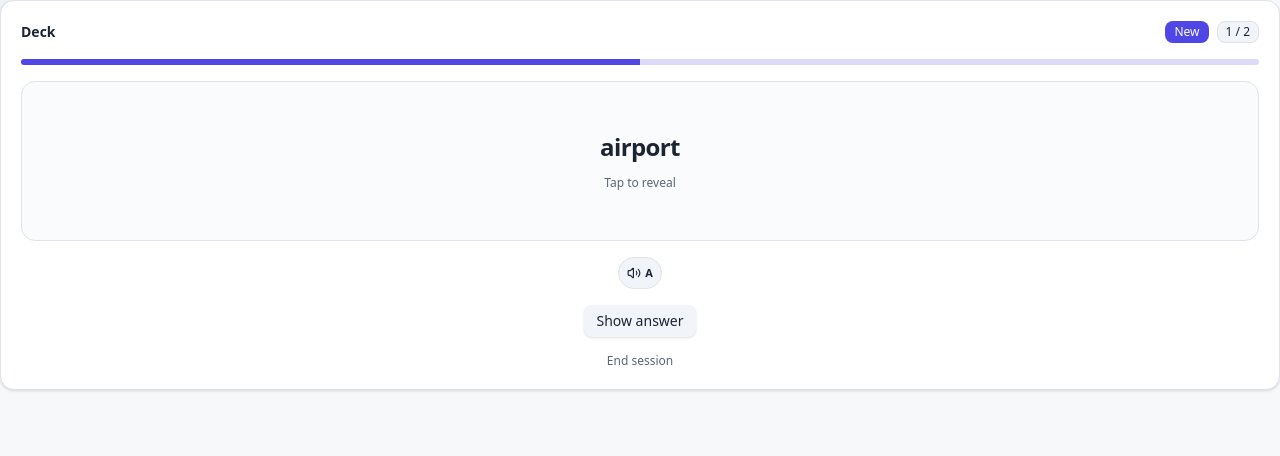
Test: StudySession › al gradear la última tarjeta se ve el resumen, no una recarga silenciosa
Expected: the text "airport" is shown, [600,131,680,163]
Click the button with aria-label "Flip card": coordinates (640, 161) [21,81,1259,241]
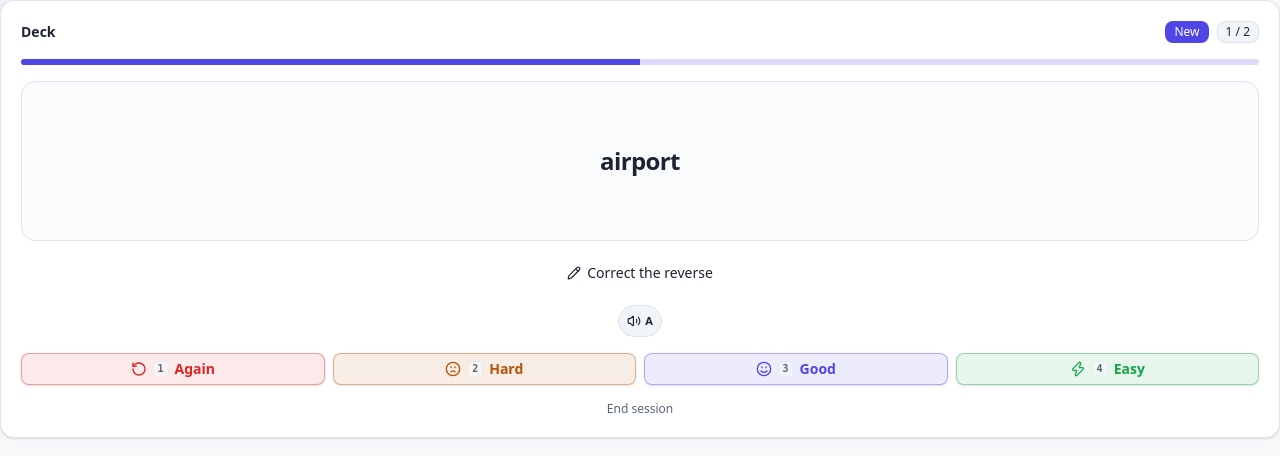
Click the text "Good": coordinates (818, 369) [800,359,836,379]
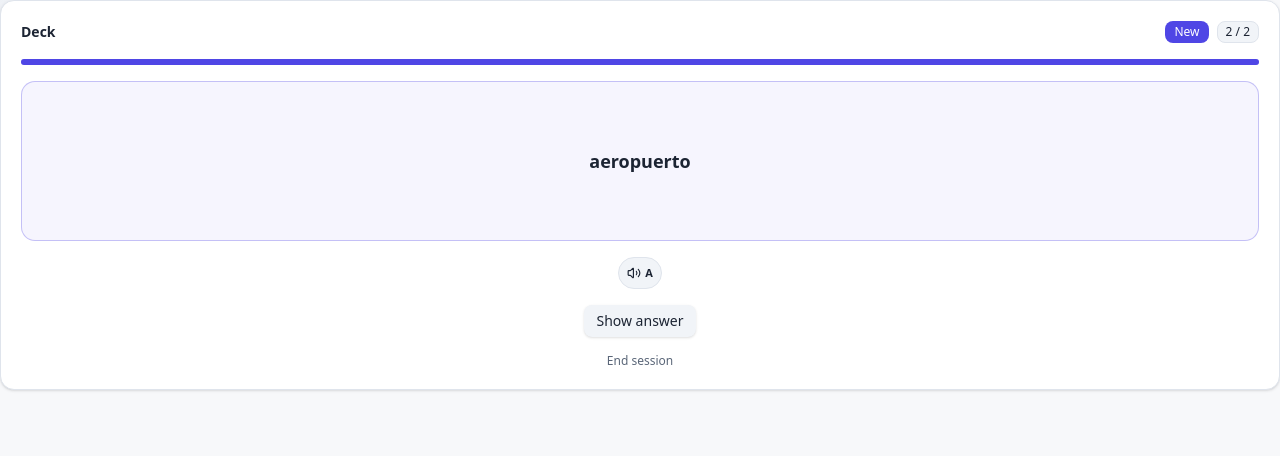
Now the text "ticket" is shown, box [607,131,673,163]
Click the button with aria-label "Flip card": coordinates (640, 161) [21,81,1259,241]
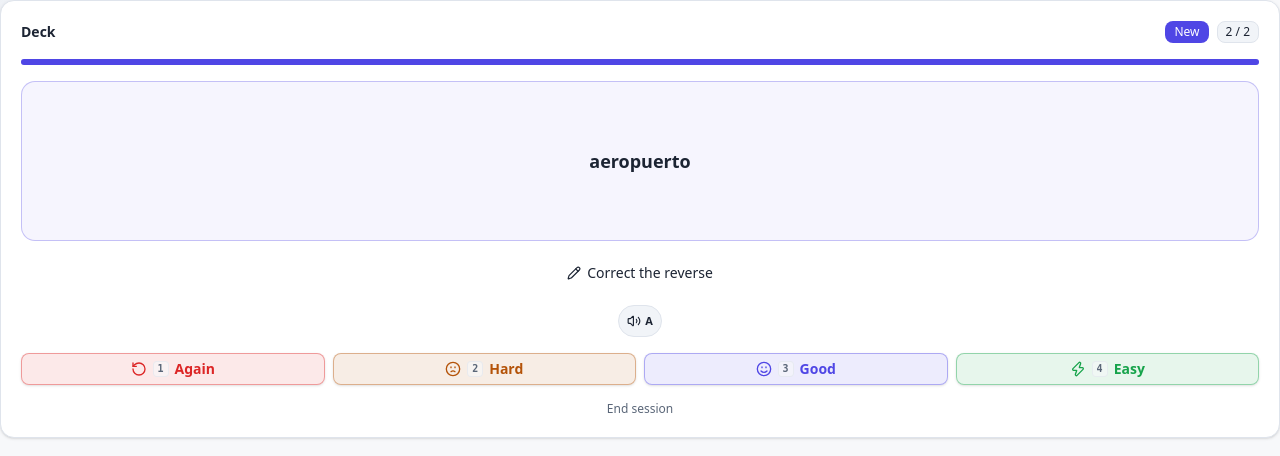
Click the text "Good": coordinates (818, 369) [800,359,836,379]
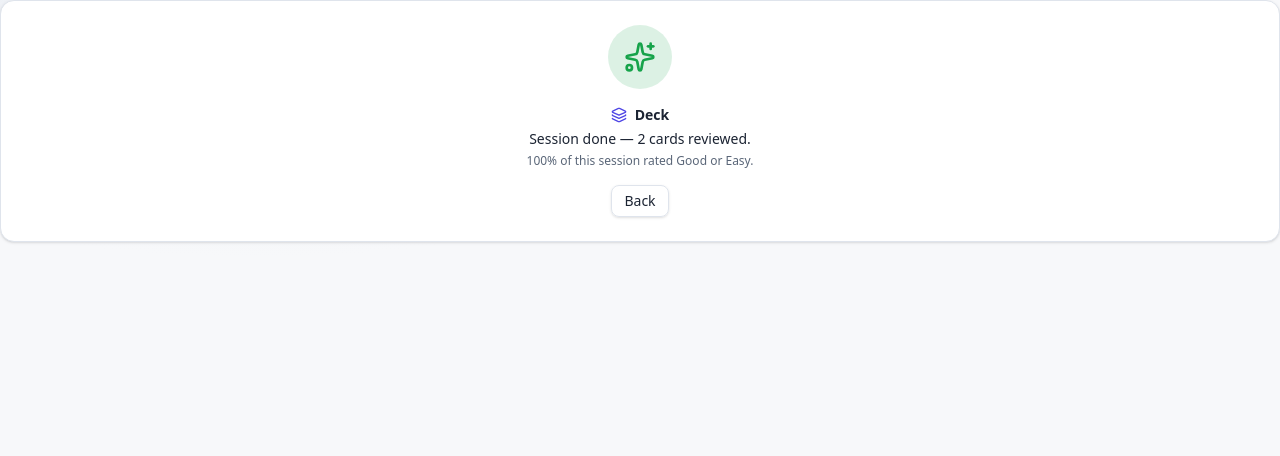
Now the text "Session done — 2 cards reviewed." is shown, box [529,129,751,149]
Now the button "Back" is shown, box [611,185,669,217]
